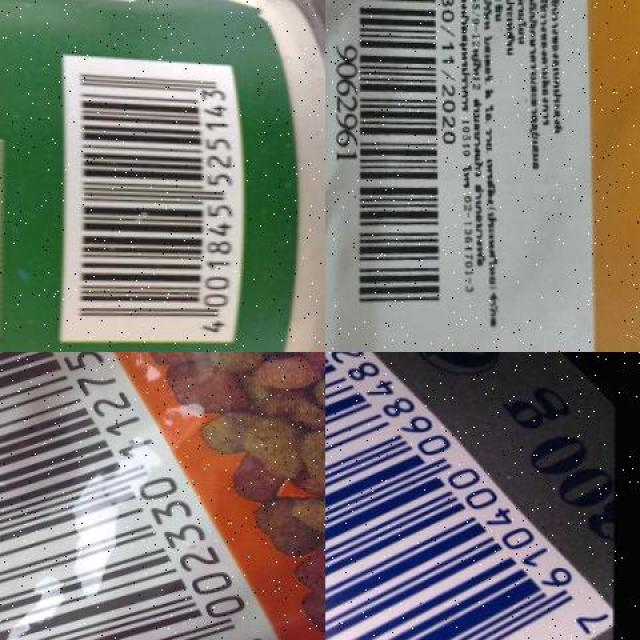Barcode: (0, 352, 292, 640), (325, 352, 615, 640), (60, 53, 245, 344), (329, 0, 442, 320)
